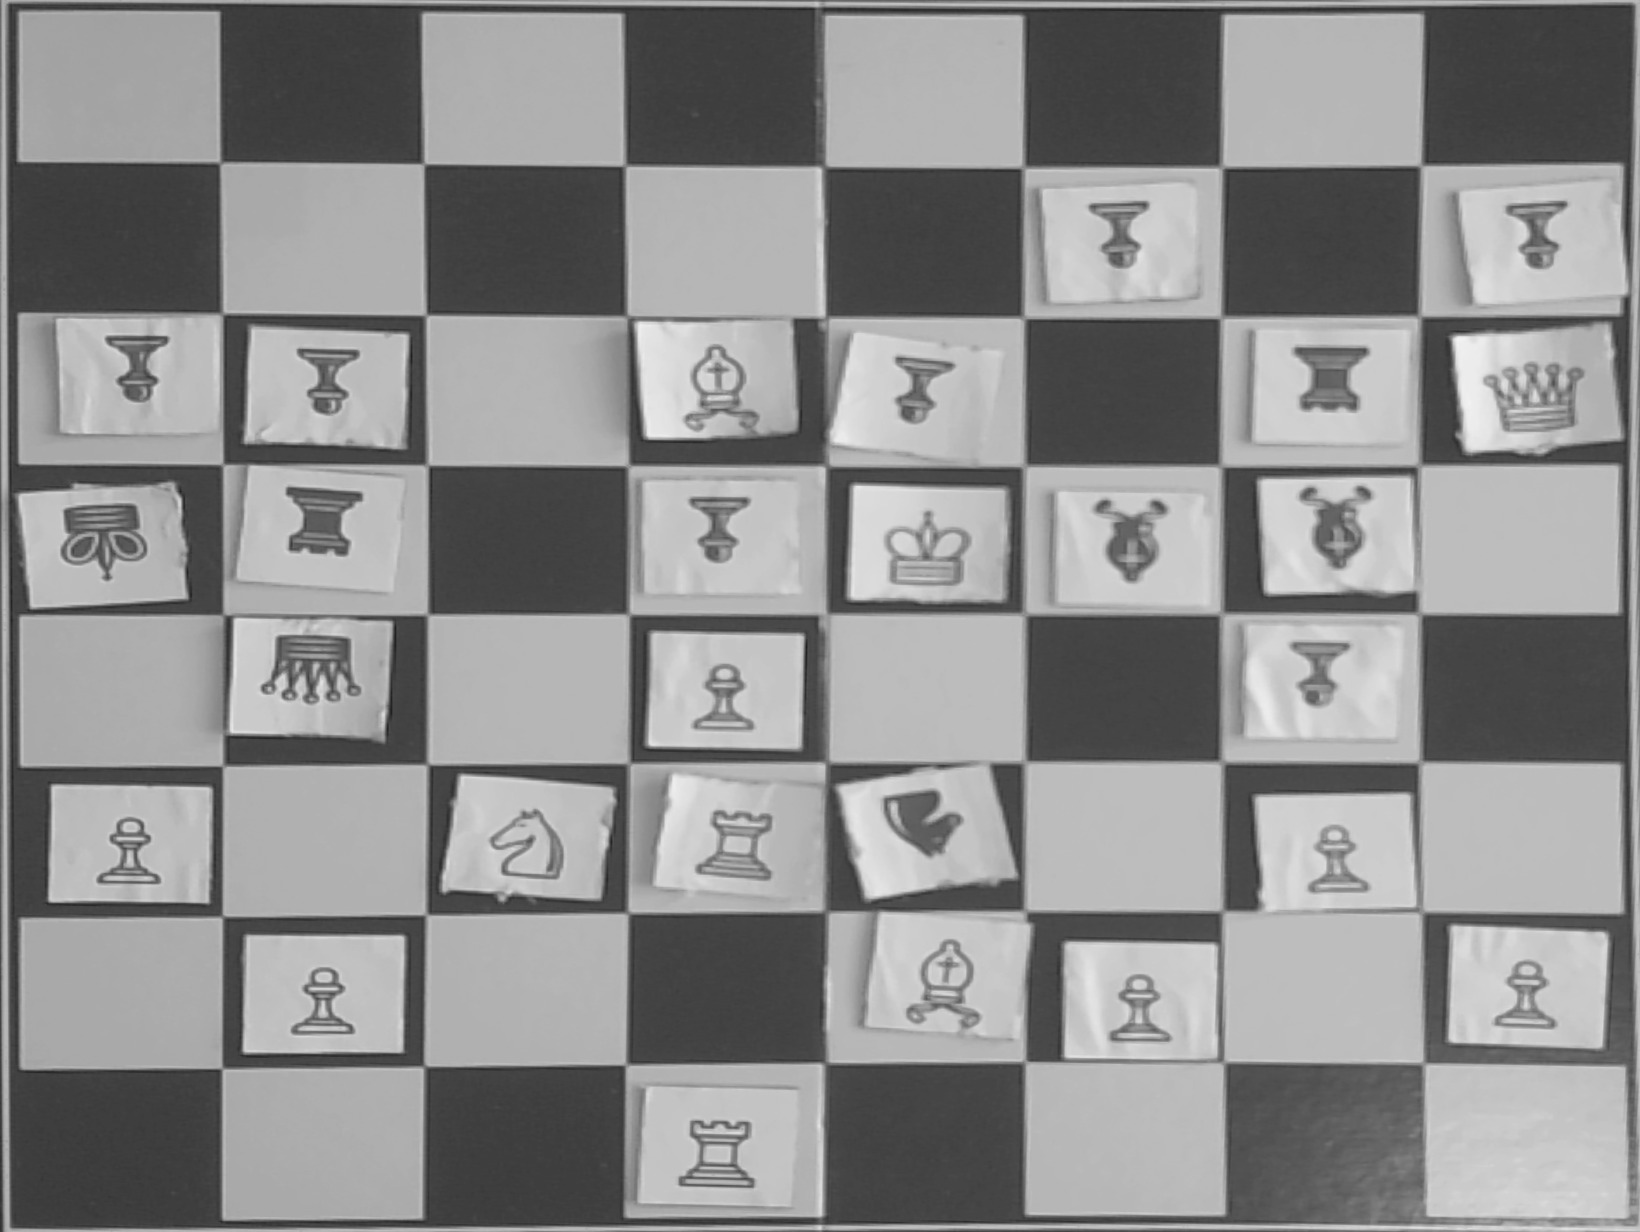b_bishop: (1074, 494, 1184, 600), (1285, 480, 1394, 585)
b_king: (48, 492, 166, 585)
b_knight: (866, 783, 984, 875)
b_pawn: (1269, 632, 1386, 729), (74, 324, 190, 421), (1473, 190, 1590, 286), (656, 487, 773, 582), (859, 349, 975, 445)
b_queen: (249, 622, 377, 726)
b_rook: (1269, 327, 1388, 440), (258, 476, 377, 588)
w_bishop: (881, 927, 1006, 1031), (656, 333, 782, 436)
w_king: (869, 496, 981, 598)
w_knight: (476, 789, 584, 890)
w_pawn: (668, 650, 784, 736), (62, 802, 179, 889), (1275, 814, 1391, 899), (1469, 951, 1586, 1037)
w_queen: (1470, 342, 1600, 439)
w_rook: (664, 1100, 779, 1197), (678, 798, 793, 894)
